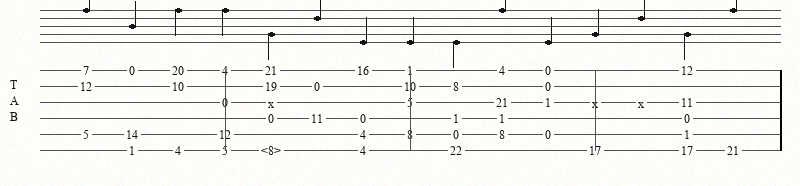0: (129, 64, 139, 77), (222, 96, 232, 109), (268, 112, 278, 125), (314, 80, 324, 93), (360, 112, 370, 125), (453, 128, 463, 141), (545, 64, 555, 77), (545, 128, 555, 141), (545, 80, 555, 93), (684, 112, 694, 125)
1: (129, 144, 139, 157), (407, 64, 417, 77), (453, 112, 463, 125), (499, 112, 509, 125), (545, 96, 555, 109), (684, 128, 694, 141)
10: (172, 80, 188, 93), (404, 80, 420, 93)
11: (311, 112, 327, 125), (681, 96, 697, 109)
12: (80, 80, 96, 93), (219, 128, 235, 141), (681, 64, 697, 77)
14: (126, 128, 142, 141)
16: (357, 64, 373, 77)
17: (589, 144, 605, 157), (681, 144, 697, 157)
19: (265, 80, 281, 93)
20: (172, 64, 188, 77)
21: (265, 64, 281, 77), (496, 96, 512, 109), (727, 144, 743, 157)
22: (450, 144, 466, 157)
4: (175, 144, 185, 157), (222, 64, 232, 77), (360, 144, 370, 157), (360, 128, 370, 141), (499, 64, 509, 77)
5: (83, 128, 93, 141), (222, 144, 232, 157), (407, 96, 417, 109)
7: (83, 64, 93, 77)
8: (407, 128, 417, 141), (453, 80, 463, 93), (499, 128, 509, 141)
harmonic: (261, 144, 285, 157)
x: (268, 97, 278, 107), (592, 97, 602, 107), (638, 97, 648, 107)
